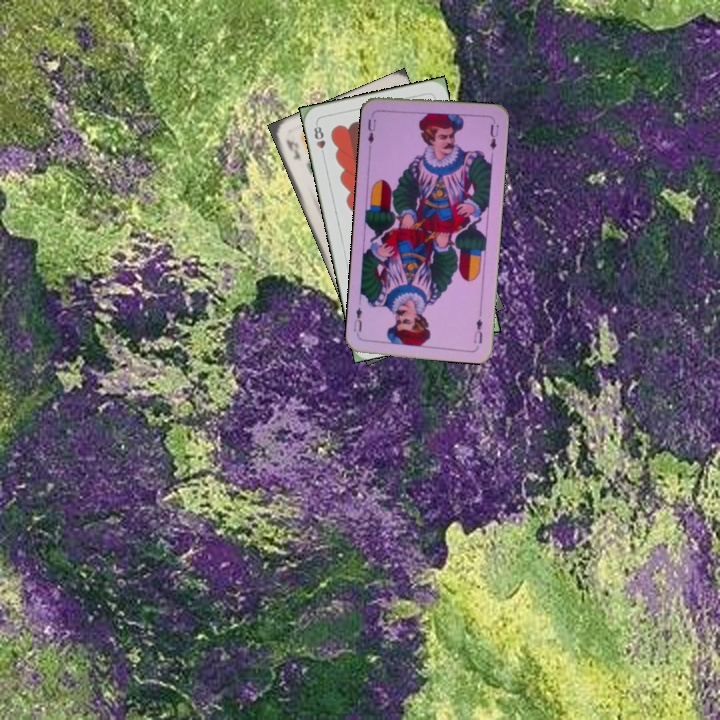EK: (282, 135, 304, 163)
EU: (470, 306, 485, 346), (363, 115, 379, 146)
H8: (310, 119, 328, 160)
